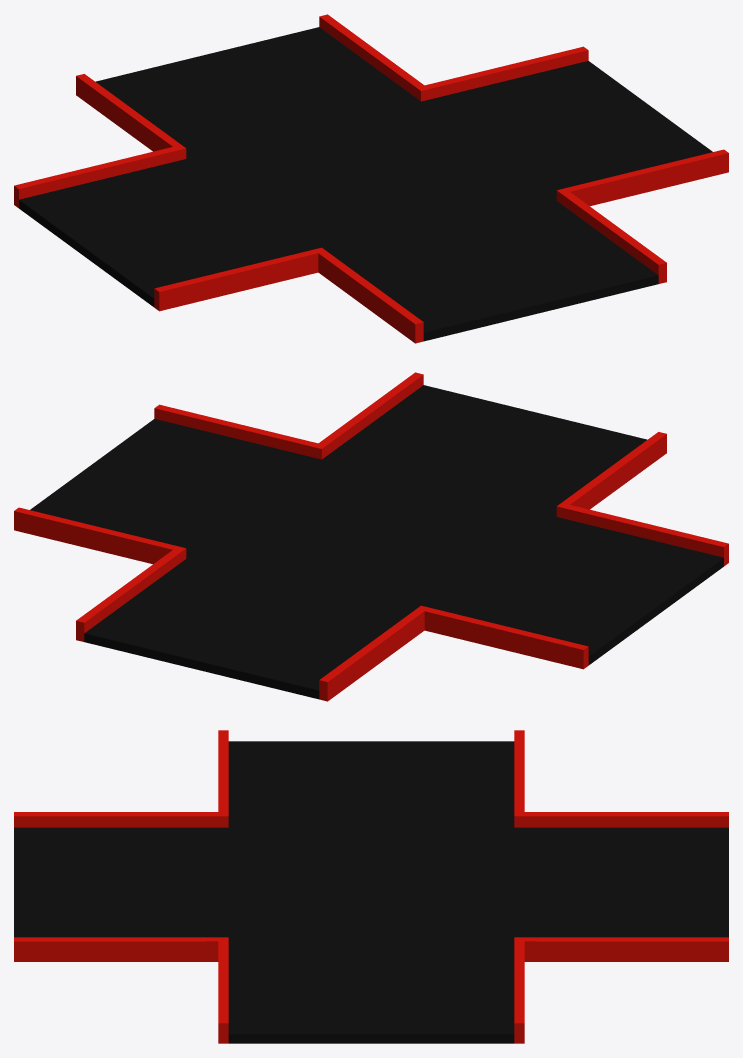
File: Turn_02.fbx
The picture shows the model from 3 angles, top to bottom: view 1: azimuth 30°, elevation 25°; view 2: azimuth 150°, elevation 25°; view 3: azimuth 270°, elevation 25°; orthographic projection. The views are drawn at different scales.
Visible parts, largest first — view 1: Turn_02; view 2: Turn_02; view 3: Turn_02.
Part boxes in pixels (x1=…): Turn_02: x1=14, y1=14, x2=728, y2=343; Turn_02: x1=14, y1=372, x2=728, y2=701; Turn_02: x1=14, y1=730, x2=728, y2=1043.
Bounding box in the file's own units: 134 × 4.33 × 138.
